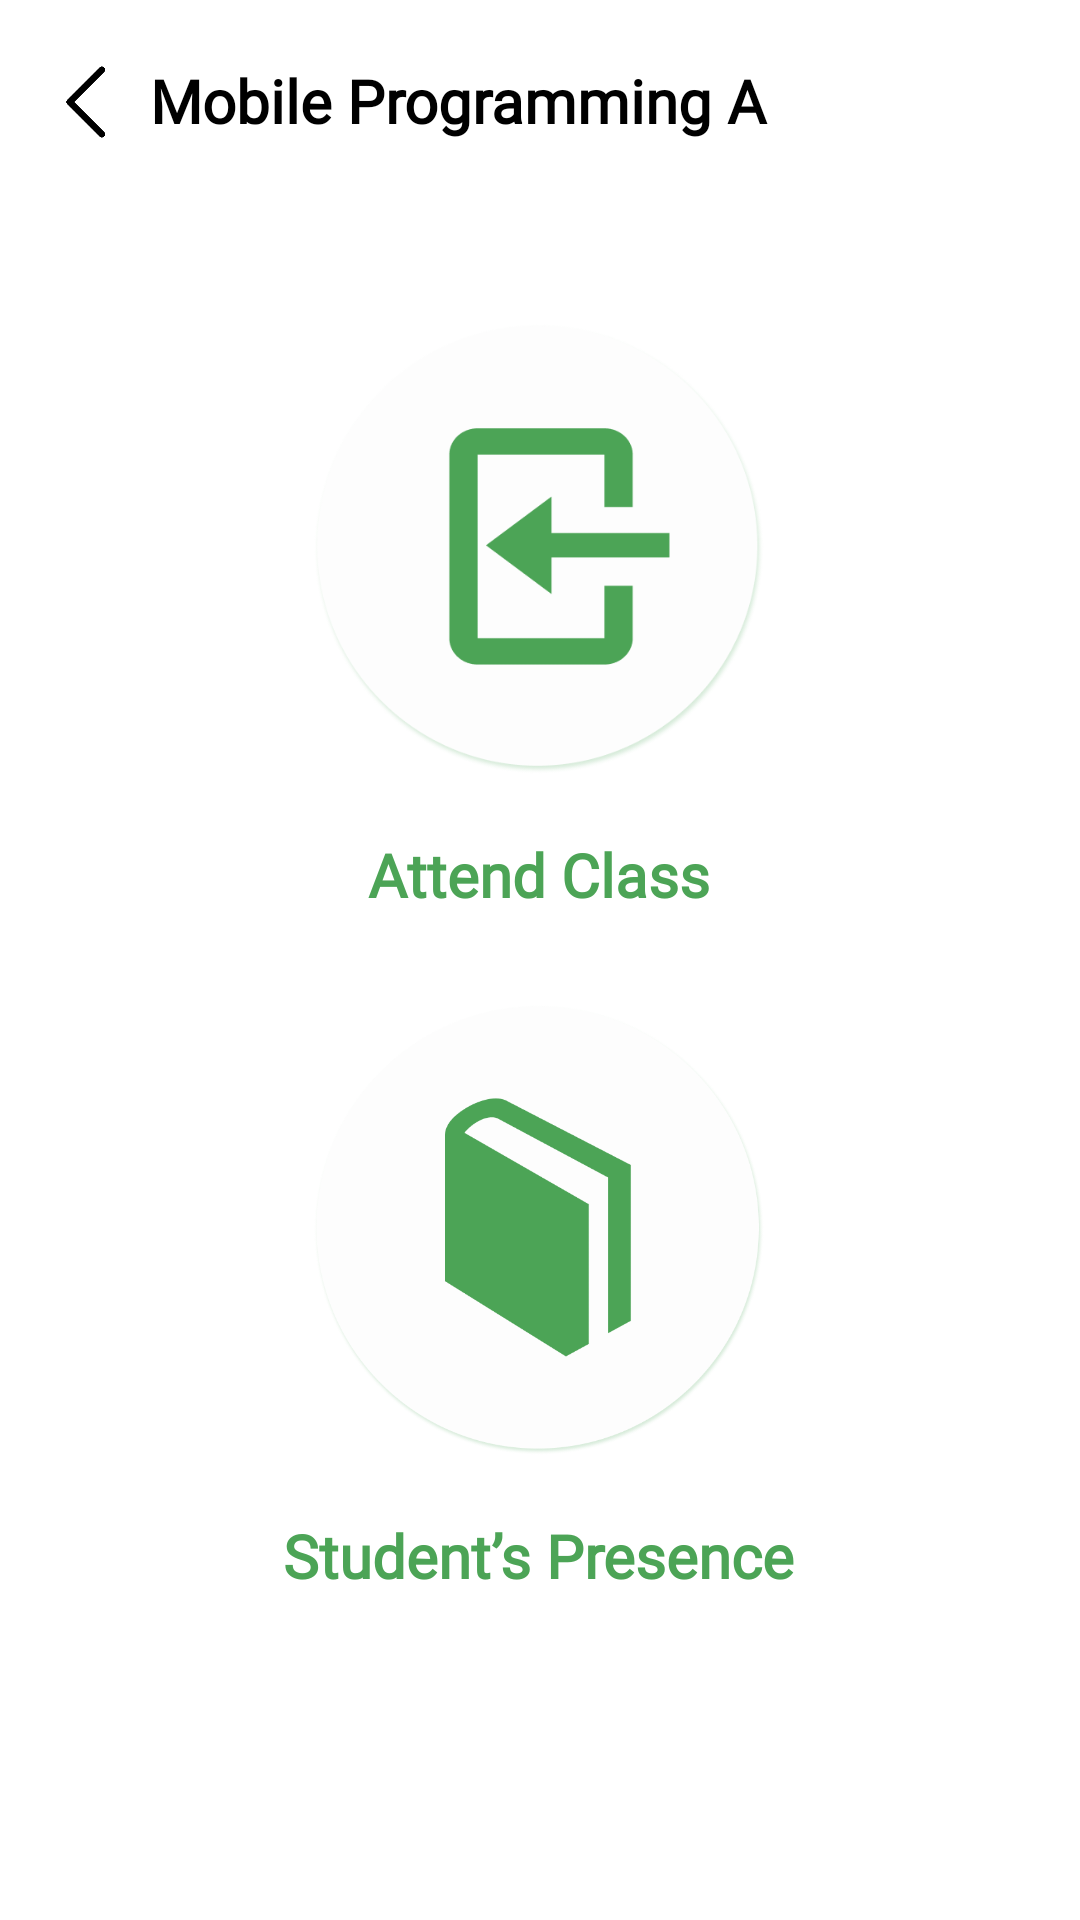

Where icons sit on this 1080w x 1920h app screen, as (x1, y1, x2, y2):
back: (66, 66, 105, 138)
